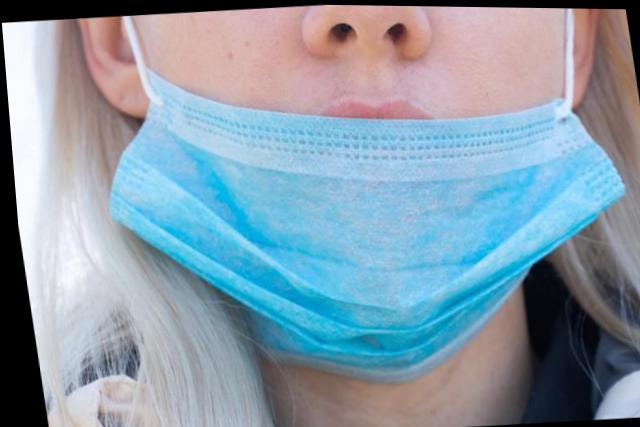WRONG: (118, 2, 632, 398)
